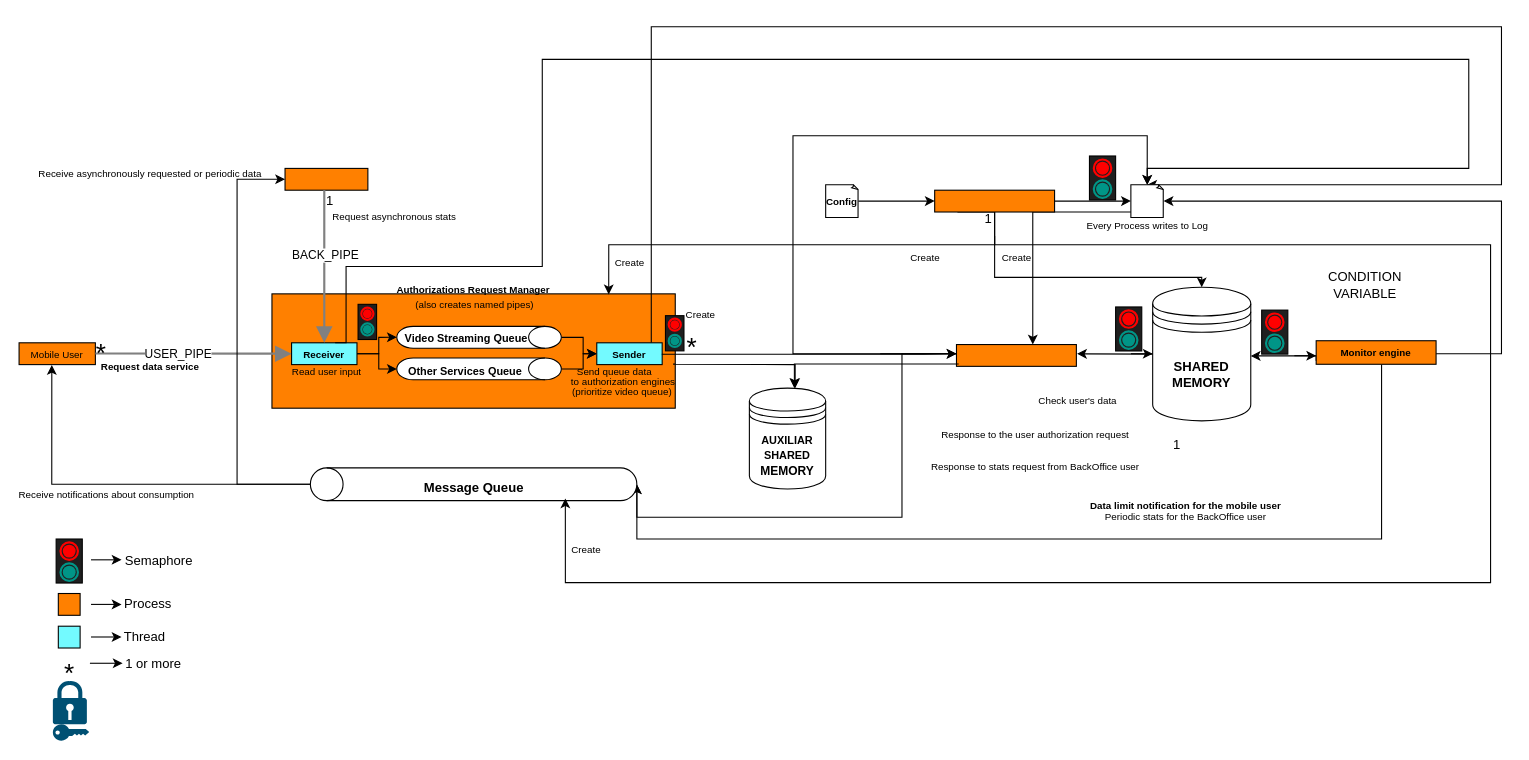
Some shapes in this 1529 by 760 pixel diagram are drawn without their labels. Here are the shapes that lost their labels. From the top down, the box of each, then its label:
(284, 167, 368, 190): BackOffice User
(934, 189, 1055, 212): System Manager
(1130, 184, 1164, 217): Log
(955, 343, 1076, 366): Authorization Engine
